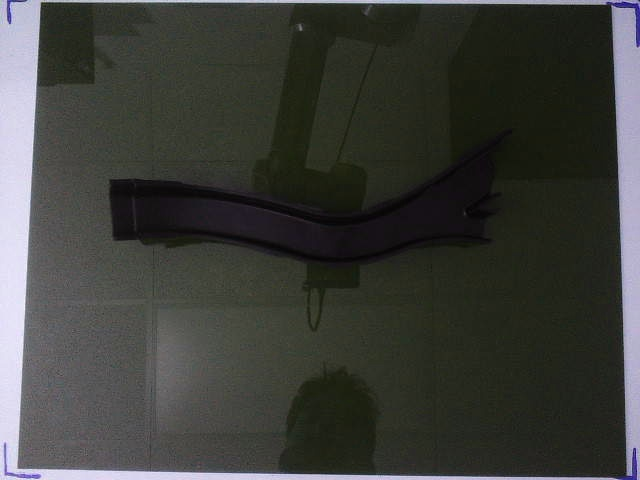887_B-Under: (110, 128, 512, 267)
